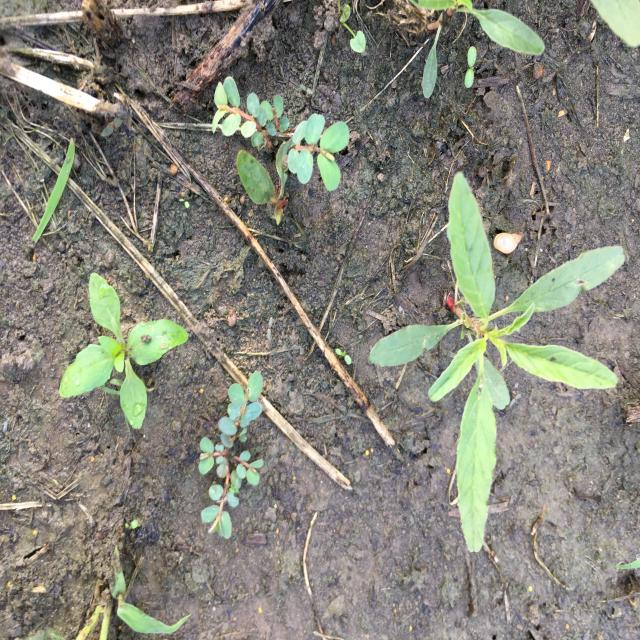Eclipta: (57, 271, 192, 433)
SpottedSpurge: (211, 75, 352, 194), (197, 368, 267, 542)
Waterhemp: (365, 170, 628, 556), (413, 0, 546, 100)
